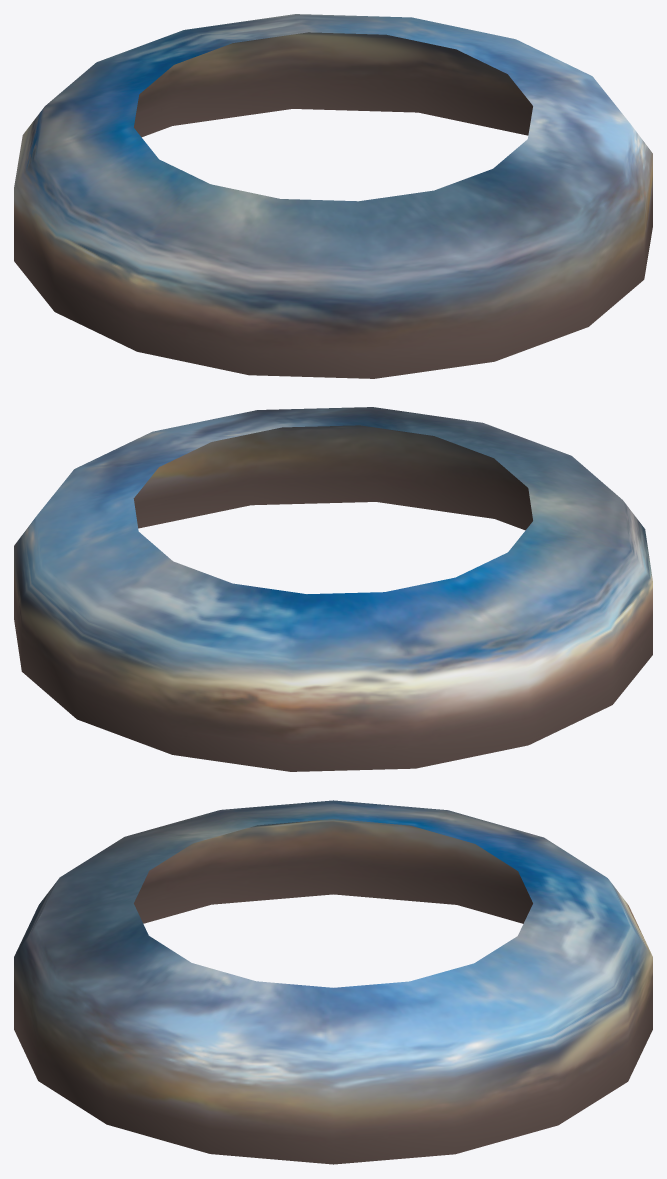
Rendered from France_Sky.FBX.
The picture shows the model from 3 angles, top to bottom: view 1: azimuth 30°, elevation 25°; view 2: azimuth 150°, elevation 25°; view 3: azimuth 270°, elevation 25°; orthographic projection.
Parts seen in each view (by area): view 1: Sky; view 2: Sky; view 3: Sky.
Boxes of the visible parts, bbox=[...] form: Sky: bbox=[14, 14, 652, 378]; Sky: bbox=[14, 407, 652, 771]; Sky: bbox=[14, 800, 652, 1164].
Bounding box in the file's own units: 333 × 72.53 × 333.
Materials: 1 (1 with a texture image).
